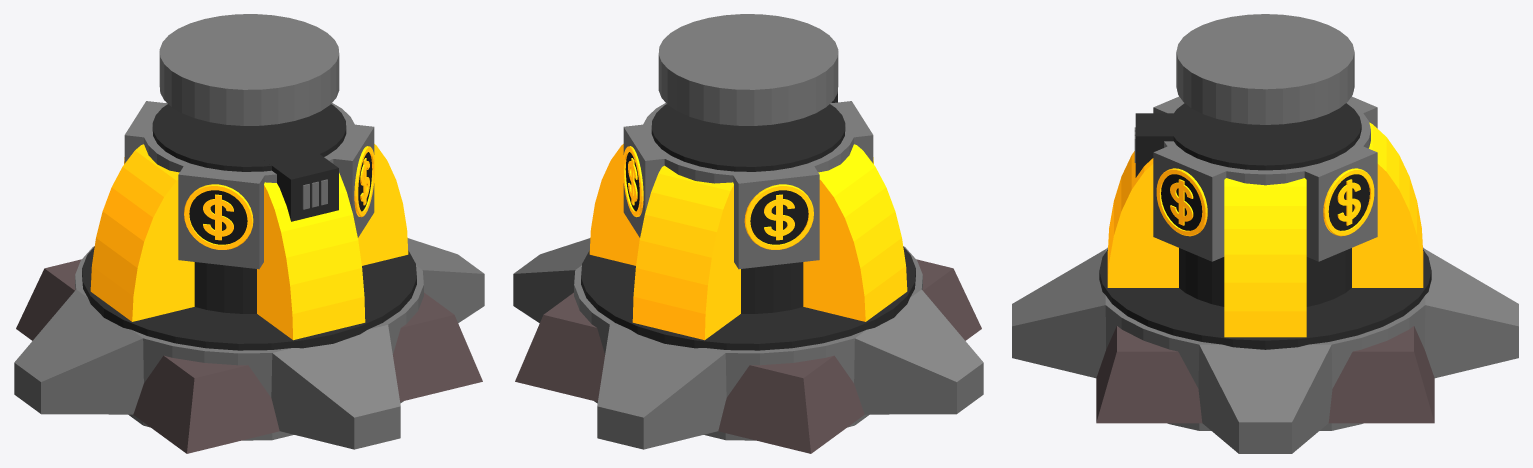
File: MoneyGenerator3.fbx
The picture shows the model from 3 angles, left to right: view 1: azimuth 30°, elevation 25°; view 2: azimuth 150°, elevation 25°; view 3: azimuth 270°, elevation 25°; orthographic projection.
Visible parts, largest first — view 1: Cylinder.001, Cylinder; view 2: Cylinder.001, Cylinder; view 3: Cylinder.001, Cylinder.
Part boxes in pixels (box(x1,y1,x2,y2)): Cylinder.001: box(82, 14, 416, 350); Cylinder: box(14, 238, 484, 453); Cylinder.001: box(581, 14, 915, 350); Cylinder: box(513, 238, 983, 453); Cylinder.001: box(1099, 14, 1431, 349); Cylinder: box(1012, 247, 1518, 453).
Size of the model in its own units: 738 by 501 by 738.
